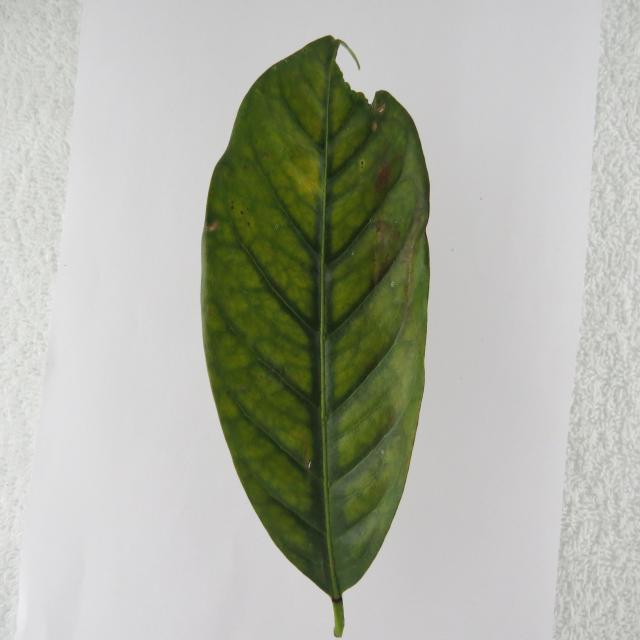DeficienciaNutricional-Manganeso: (201, 37, 430, 637)
